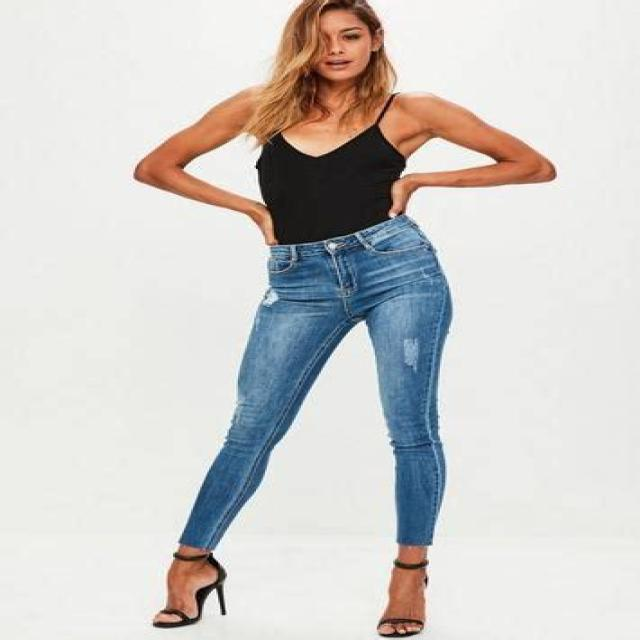Tshirt: (256, 91, 406, 247)
pants: (176, 215, 455, 551)
